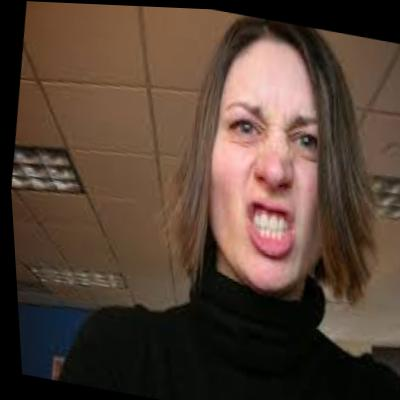angry: (173, 13, 368, 301)
